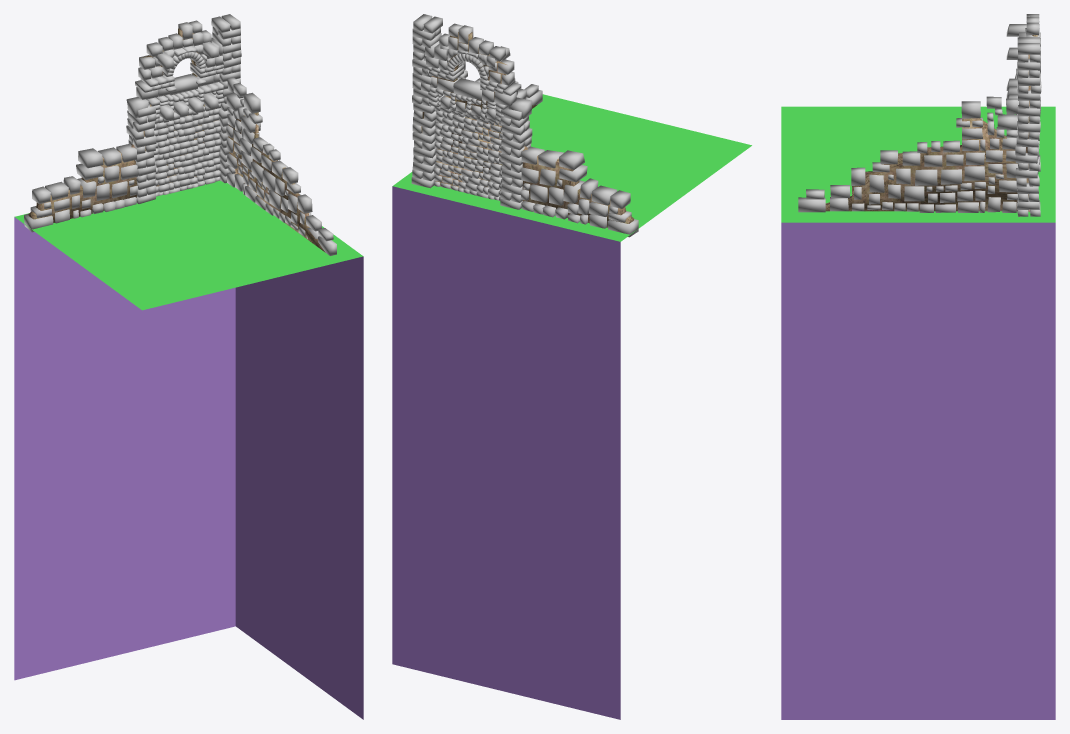
Rendered from RoomCornder_4.Lod2.fbx.
The picture shows the model from 3 angles, left to right: view 1: azimuth 30°, elevation 25°; view 2: azimuth 150°, elevation 25°; view 3: azimuth 270°, elevation 25°; orthographic projection. The views are drawn at different scales.
Visible parts, largest first — view 1: RoomCornder_4.Lod2; view 2: RoomCornder_4.Lod2; view 3: RoomCornder_4.Lod2.
Part boxes in pixels (bbox=[...]): RoomCornder_4.Lod2: bbox=[14, 14, 363, 719]; RoomCornder_4.Lod2: bbox=[392, 14, 751, 719]; RoomCornder_4.Lod2: bbox=[781, 14, 1055, 719].
Bounding box in the file's own units: 400 × 1077 × 400.
